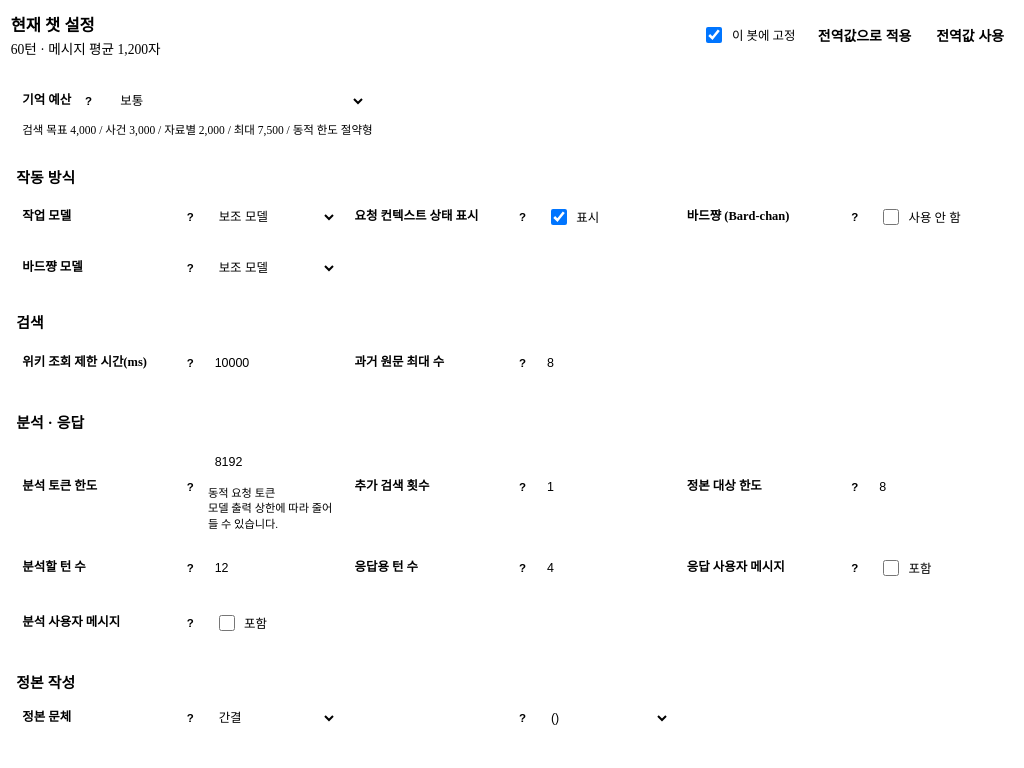
Scenario: RisuBardCurrentChatSettings › memory budget preset › follows the pinned bot target and stays disabled without a chat
The width and height of the screenshot is (1024, 768).
Select "절약" in the dropdown with id "bardwiki-memory-budget" at point(238, 101), box [110,85,366,117]
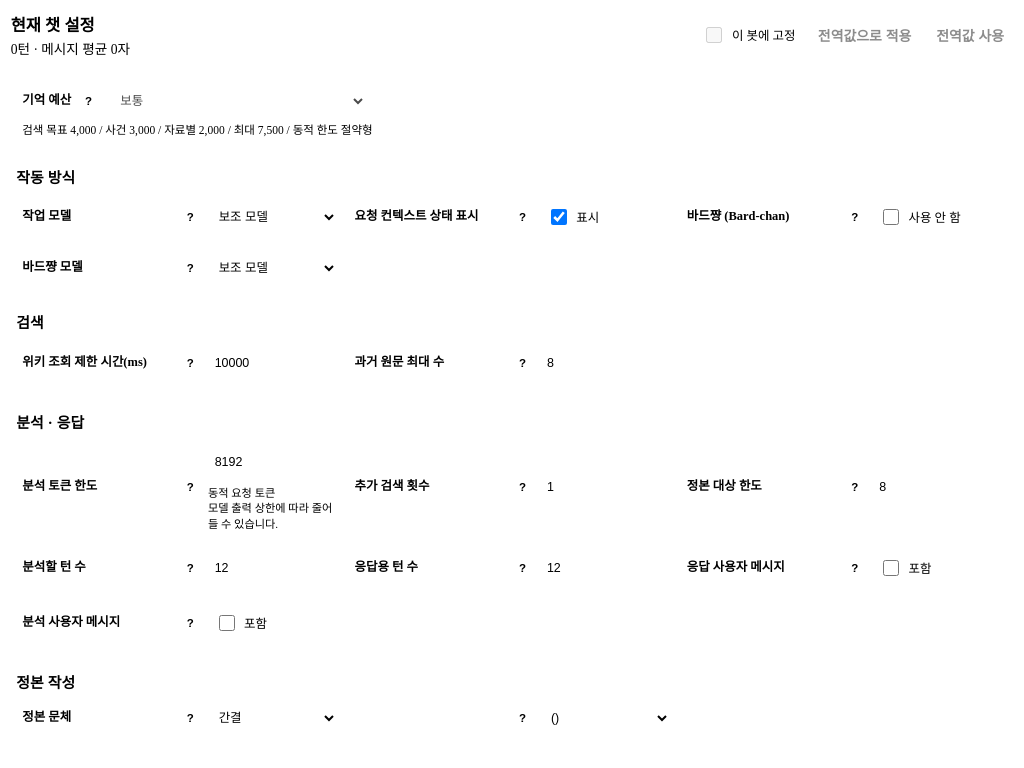
Now the dropdown with id "bardwiki-memory-budget" is disabled, box [110,85,366,117]
